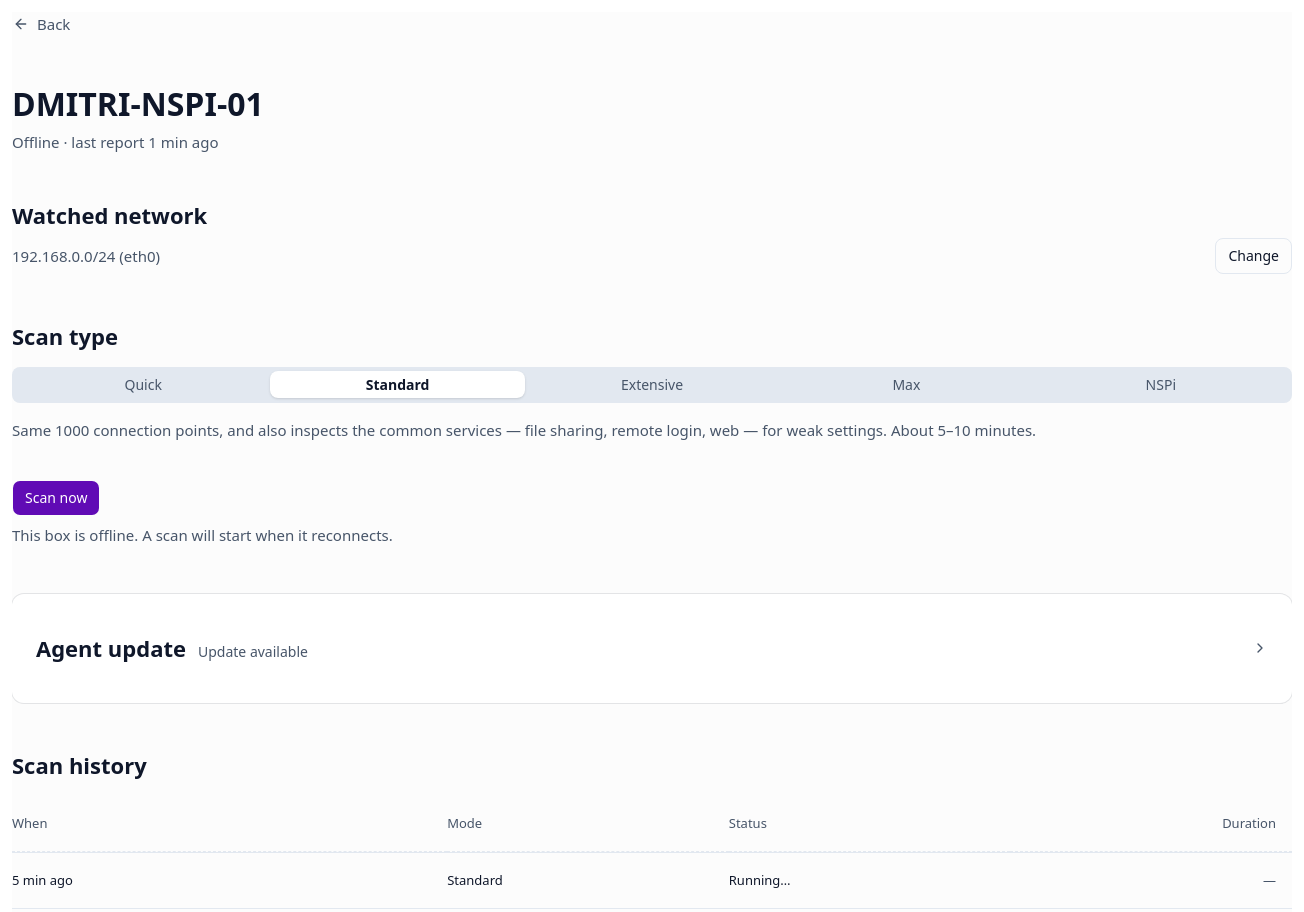
Device update section › does not offer an update while the device is offline and does not promise a queue
The width and height of the screenshot is (1304, 912).
Click the button with test id "agent-update-toggle". click: (111, 648)
box: [12,618,1292,679]
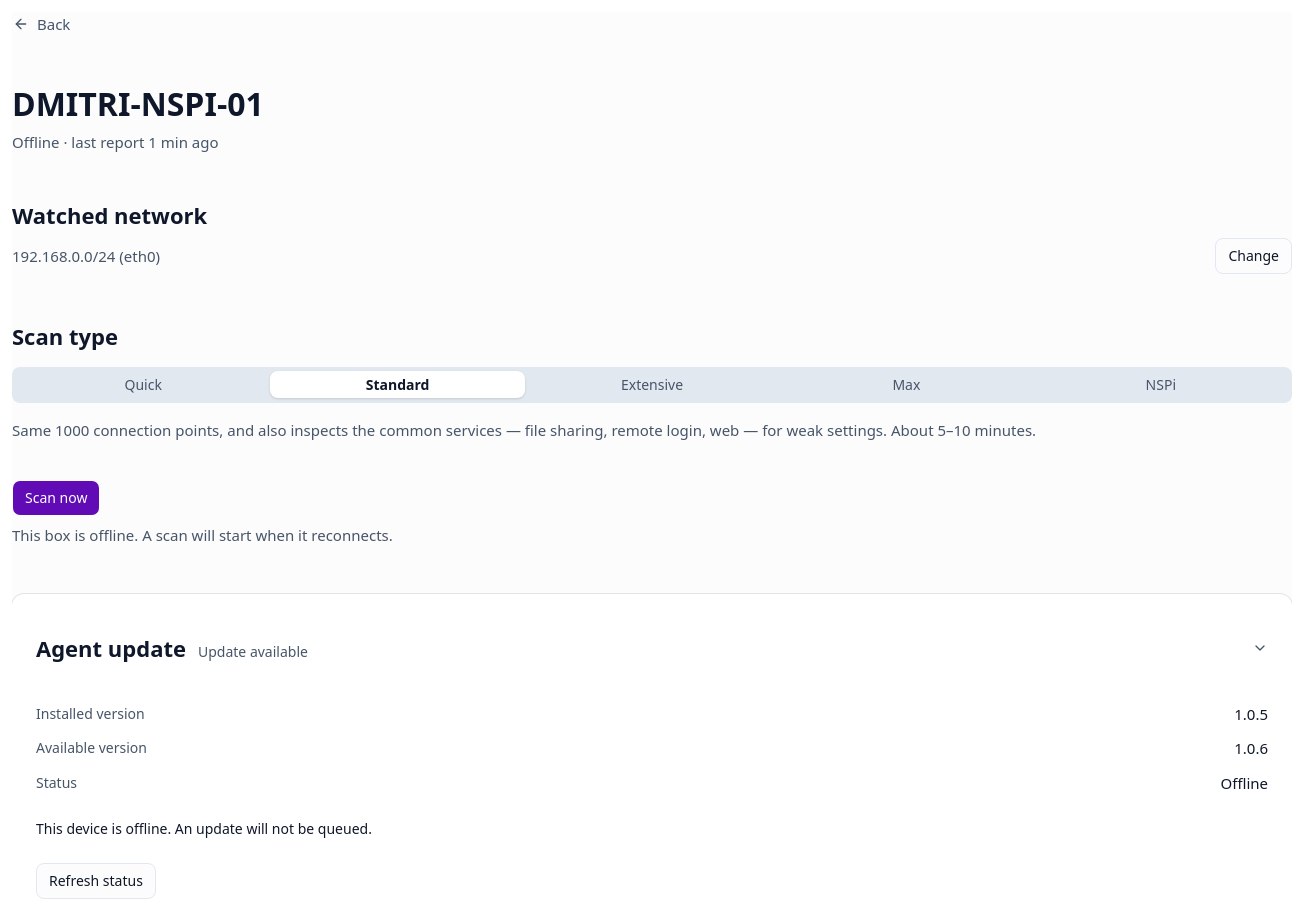
Now the text "Offline" below "1.0.5" is shown, box [1220,773,1268,793]
Now the text "This device is offline. An update will not be queued." is shown, box [36,819,372,838]
